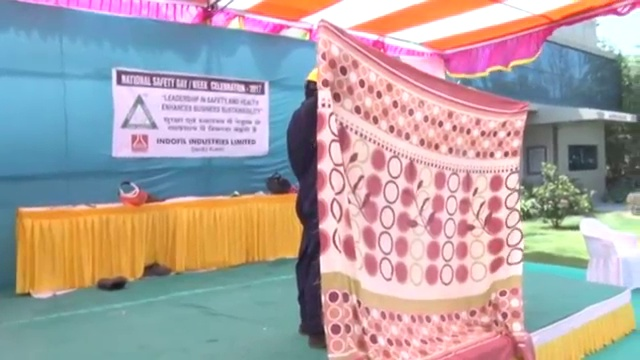person: (282, 66, 332, 351)
